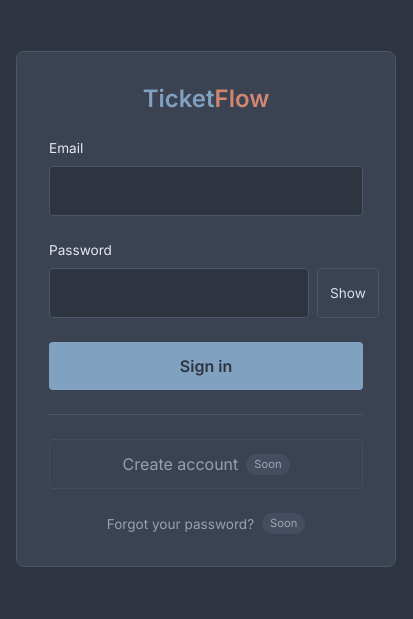
LoginPage › muestra el mensaje del backend ante credenciales inválidas, sin navegar (401 INVALID_CREDENTIALS)
Step 1. Type "sofia.hernandez@ticketflow.com" into the field labelled "Email" → point(206, 191), box [49,166,363,216]
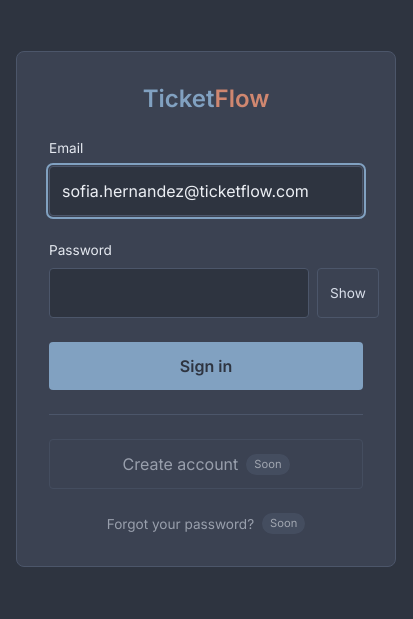
Step 2. Type "ticket123" into the password field labelled "Password" → point(179, 294), box [49,268,309,318]
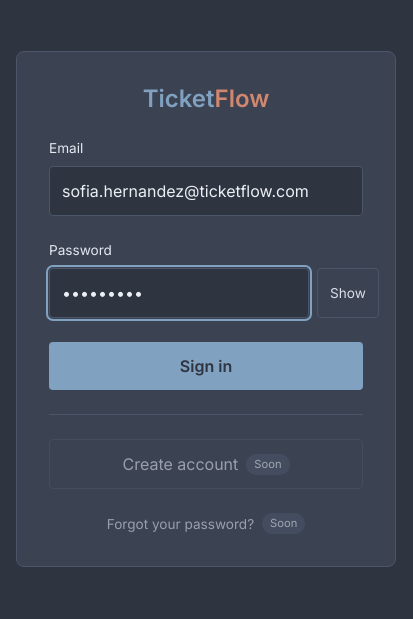
Step 3. Click the button "Sign in" → point(206, 366), box [49,342,363,390]
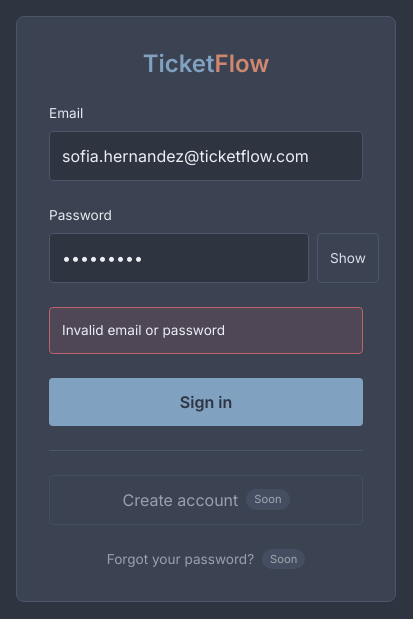
Check: the message reads "Invalid email or password", box [62,322,225,338]
